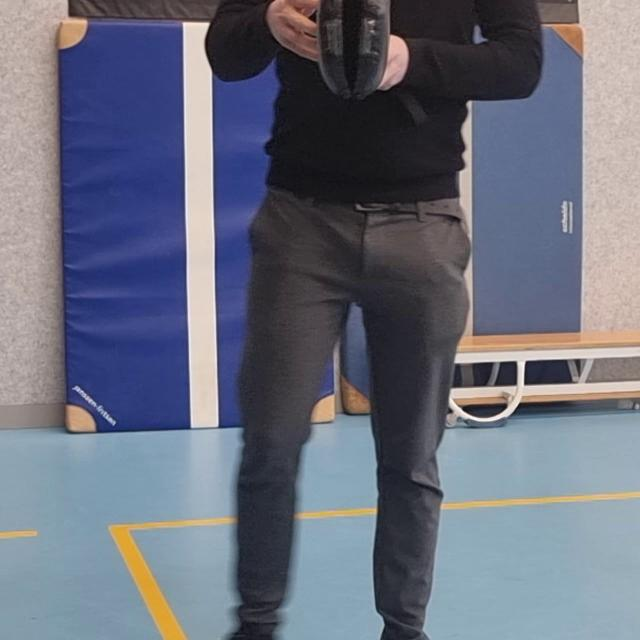paddle: (321, 0, 390, 101)
